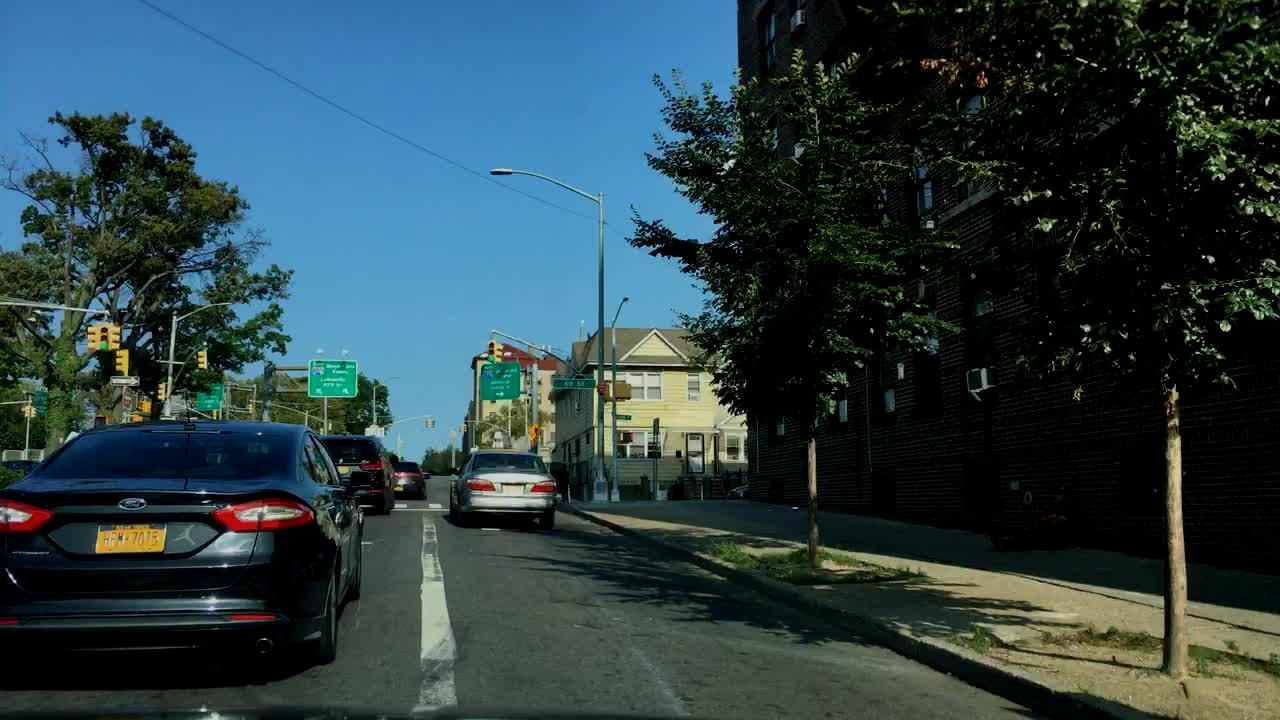ford: (116, 497, 147, 511)
